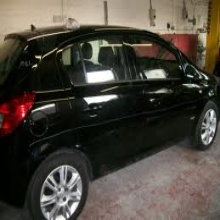no damage: (1, 27, 220, 220)
